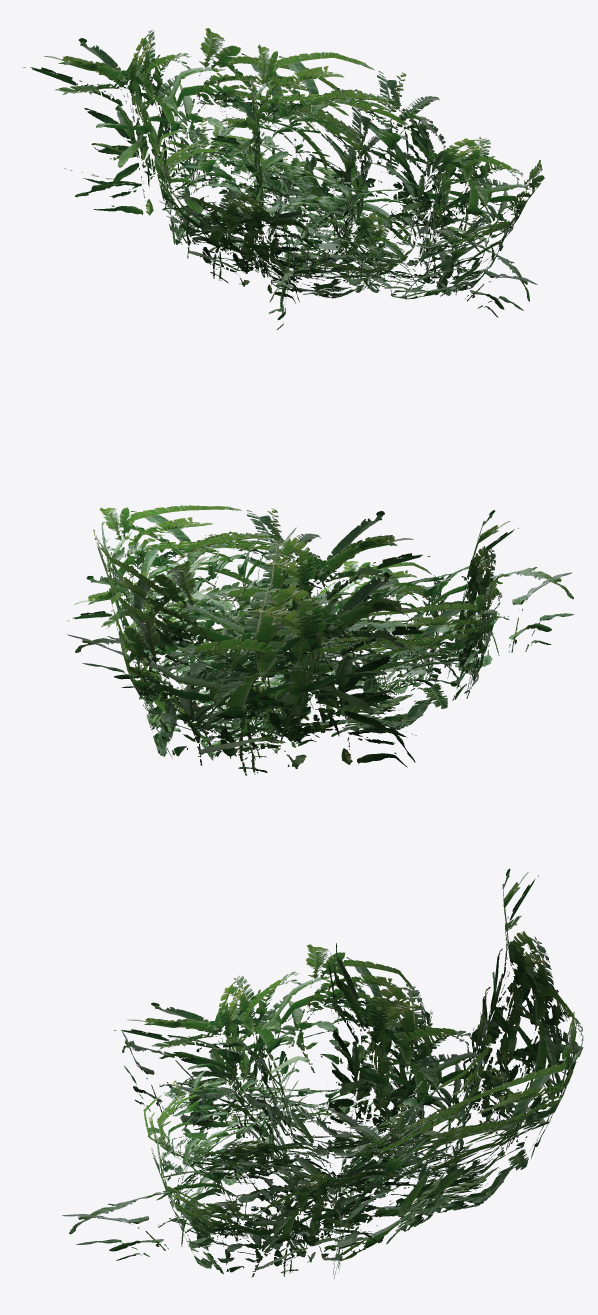
Rendered from Plantes_master.FBX.
3 renders of one model, top to bottom at view 1: azimuth 30°, elevation 25°; view 2: azimuth 150°, elevation 25°; view 3: azimuth 270°, elevation 25°, orthographic. The views are drawn at different scales.
Visible parts, largest first — view 1: plantes_sol_master374; view 2: plantes_sol_master374; view 3: plantes_sol_master374.
Boxes of the visible parts, x1=… form: plantes_sol_master374: x1=23, y1=28, x2=544, y2=329; plantes_sol_master374: x1=67, y1=505, x2=574, y2=775; plantes_sol_master374: x1=62, y1=868, x2=583, y2=1279.
Size of the model in its own units: 0.9961 by 0.5355 by 0.9976.
Materials: 1 (1 with a texture image).
